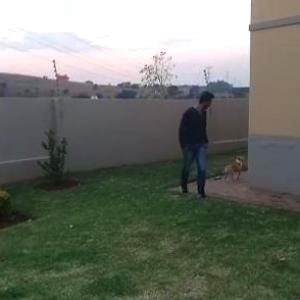follow: (179, 82, 214, 203)
